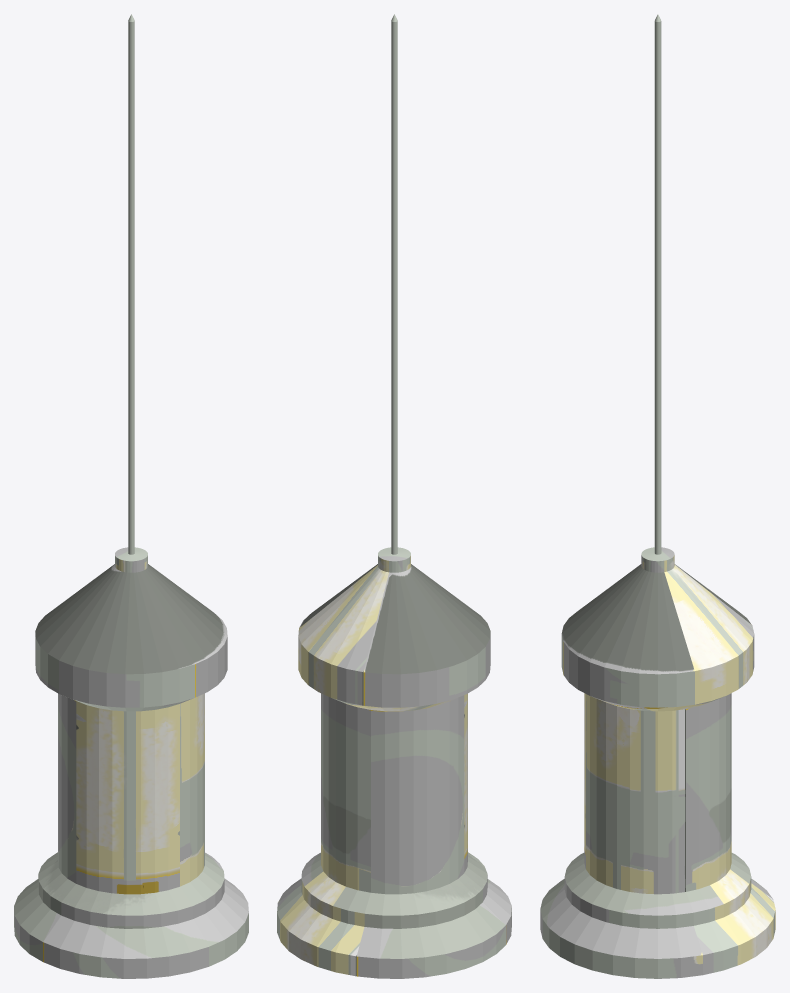
Rendered from Lampara1.obj.
3 views of the same model, side by side, from view 1: azimuth 30°, elevation 25°; view 2: azimuth 150°, elevation 25°; view 3: azimuth 270°, elevation 25° (orthographic).
Visible parts, largest first — view 1: Cilindro; view 2: Cilindro; view 3: Cilindro.
Part boxes in pixels (<box>): Cilindro: <box>14,14,248,978</box>; Cilindro: <box>277,14,511,978</box>; Cilindro: <box>540,14,775,978</box>.
Size of the model in its own units: 0.3524 by 1.51 by 0.3524.
1 material, 1 textured.
